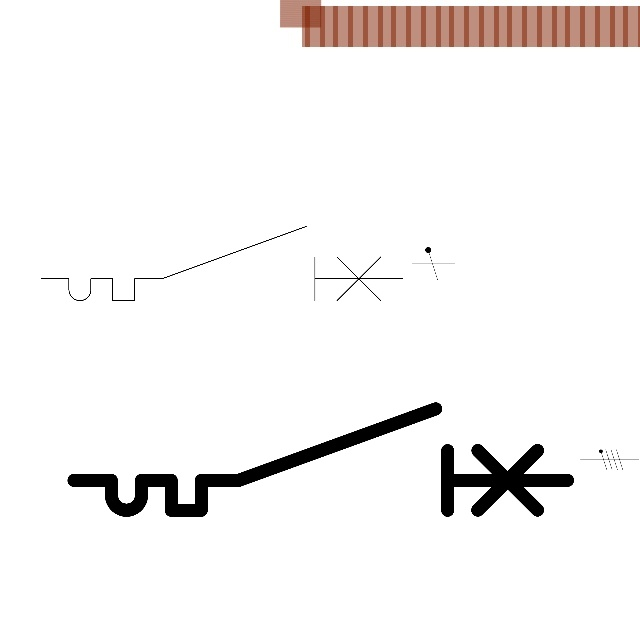interruptor_termomagnetico: (61, 396, 580, 523), (32, 217, 412, 310)
